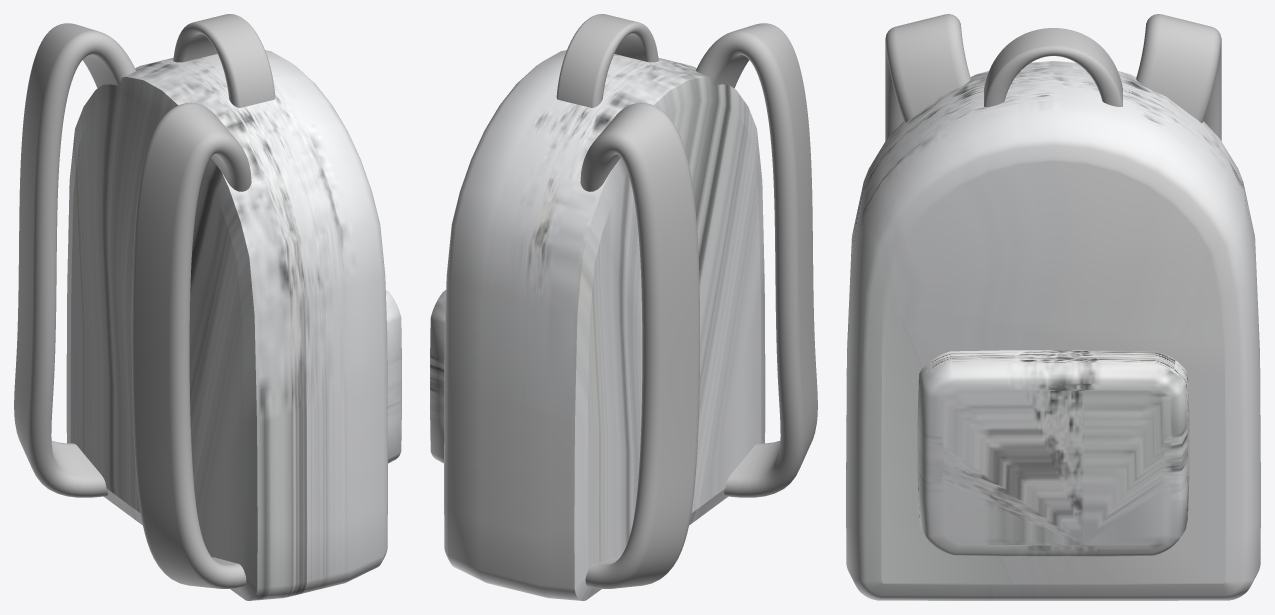
The model's file is Backpack.fbx.
The picture shows the model from 3 angles, left to right: view 1: azimuth 30°, elevation 25°; view 2: azimuth 150°, elevation 25°; view 3: azimuth 270°, elevation 25°; orthographic projection. The views are drawn at different scales.
Visible parts, largest first — view 1: Cylinder, NurbsPath, NurbsCurve, Cube; view 2: Cylinder, NurbsPath, NurbsCurve, Cube; view 3: Cylinder, Cube, NurbsPath, NurbsCurve.
Boxes of the visible parts, x1,y1,x2,y2 form: Cylinder: (66,50,387,600); NurbsPath: (14,23,251,588); NurbsCurve: (173,14,275,107); Cube: (385,290,401,463); Cylinder: (444,50,765,600); NurbsPath: (580,23,817,588); NurbsCurve: (556,14,658,107); Cube: (430,290,446,463); Cylinder: (846,61,1260,600); Cube: (917,350,1189,556); NurbsPath: (885,14,1221,140); NurbsCurve: (984,28,1122,106).
Bounding box in the file's own units: 174 × 321 × 225.
